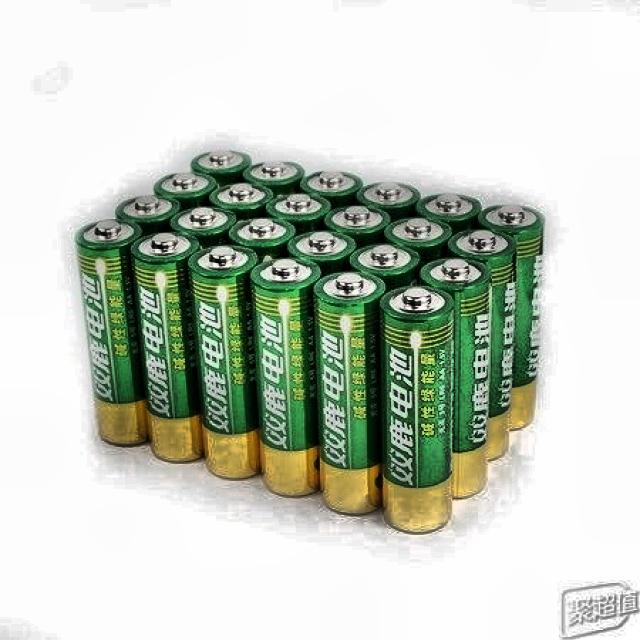Non-Valuable Waste - Batteries: (380, 286, 454, 532), (314, 271, 385, 514), (420, 258, 490, 498), (75, 219, 149, 446), (131, 232, 204, 462), (188, 245, 260, 478), (251, 258, 321, 496), (449, 229, 515, 459), (479, 205, 545, 429), (350, 244, 420, 289), (385, 218, 452, 264), (290, 230, 356, 274), (325, 205, 391, 246), (230, 218, 296, 259), (170, 206, 236, 247), (266, 192, 331, 233), (416, 194, 481, 233), (116, 195, 180, 234), (154, 172, 218, 208), (358, 182, 420, 219), (210, 182, 272, 219), (301, 171, 362, 207), (244, 161, 305, 194), (192, 150, 251, 184)
